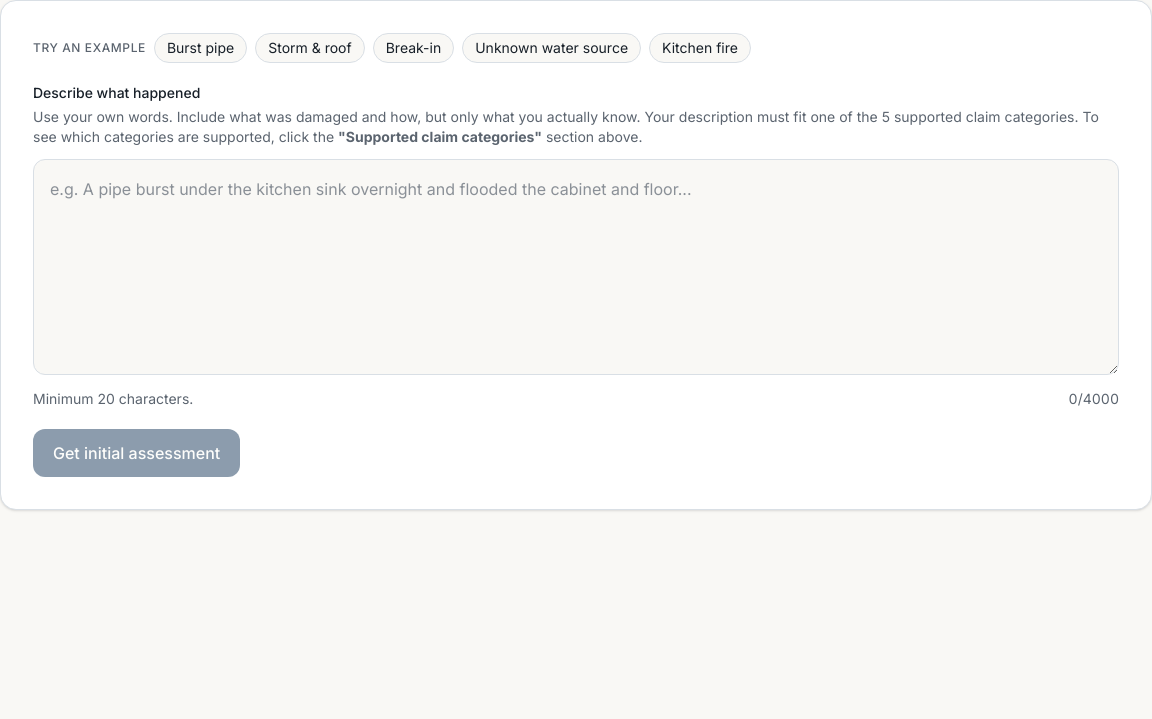
IntakeForm › renders other_or_unclear for an ambiguous input when the API returns that safe result
In the text box labelled "Describe what happened": (576, 267) top-left (33, 159), bottom-right (1119, 375), type "I noticed a strange odor in the hallway and I am not sure what caused it or whether anything is damaged."
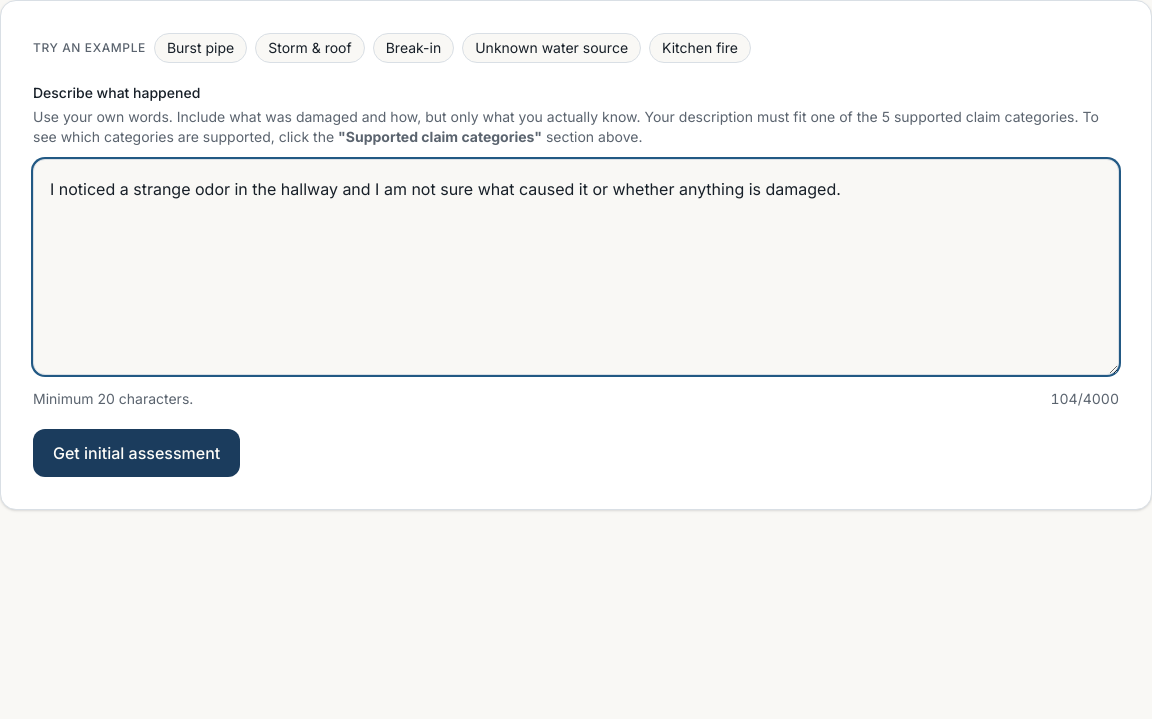
Click the button "Get initial assessment": (137, 453) top-left (33, 429), bottom-right (240, 477)
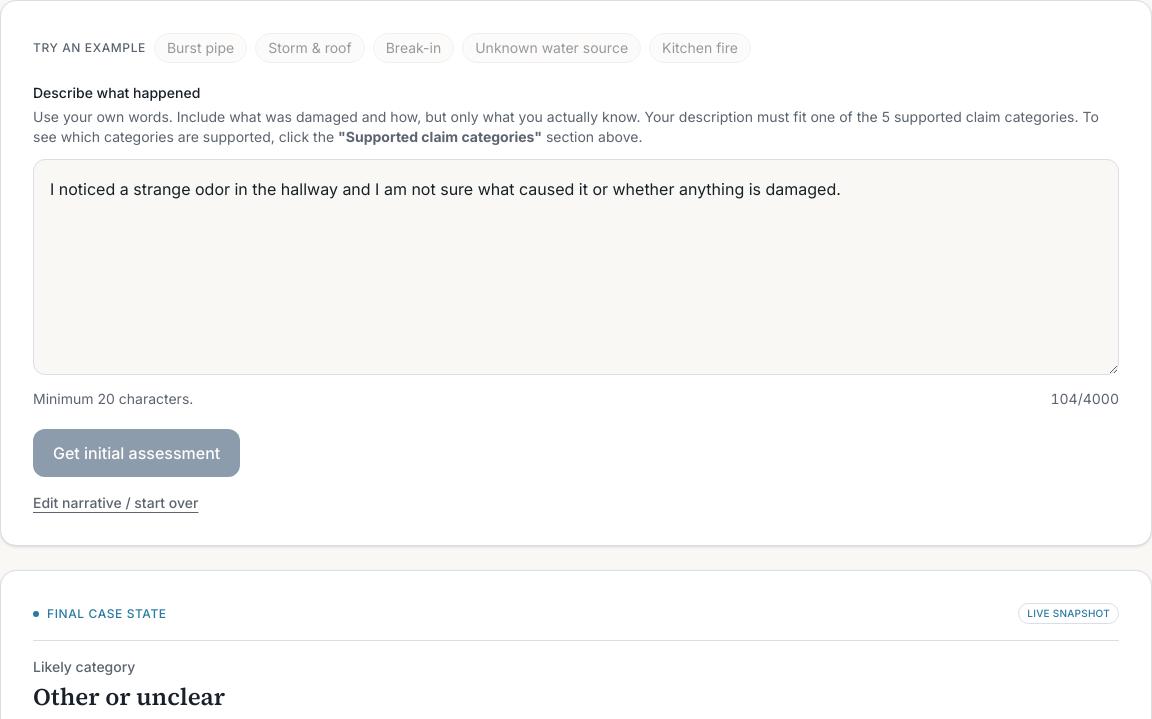
Expected: the heading "Other or unclear" is shown, top-left (33, 680), bottom-right (225, 713)
